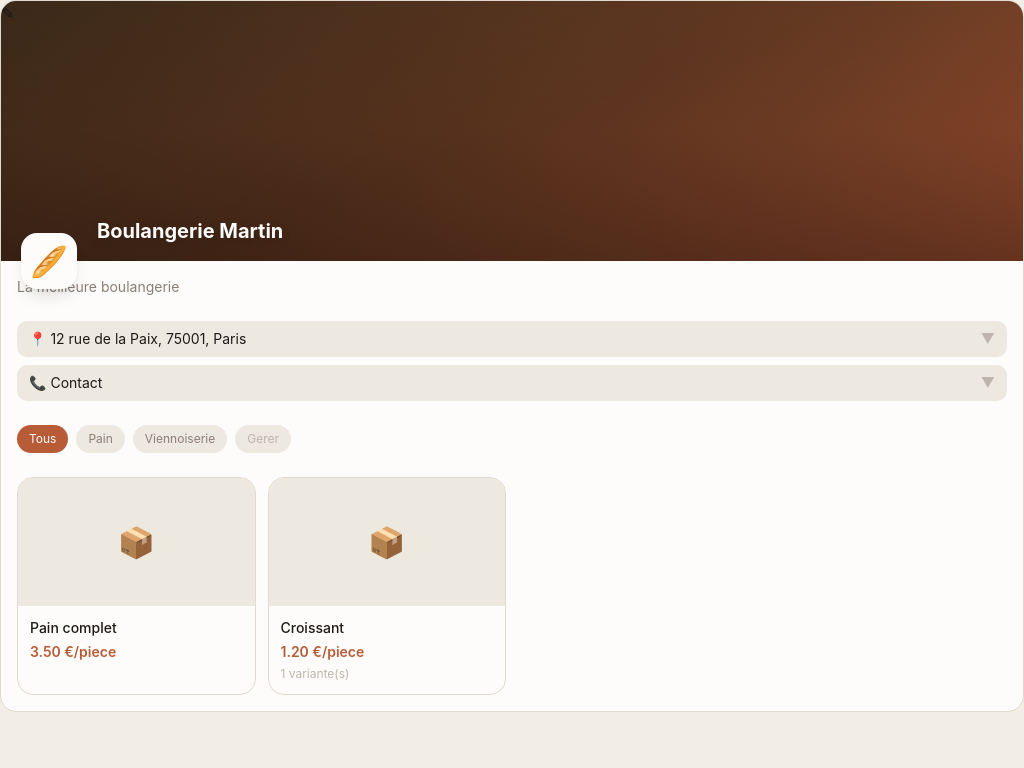
VitrinePreview › shows category manager on Gerer click
Click the button "Gerer" at {"x": 263, "y": 439}, box [235,425,291,453]
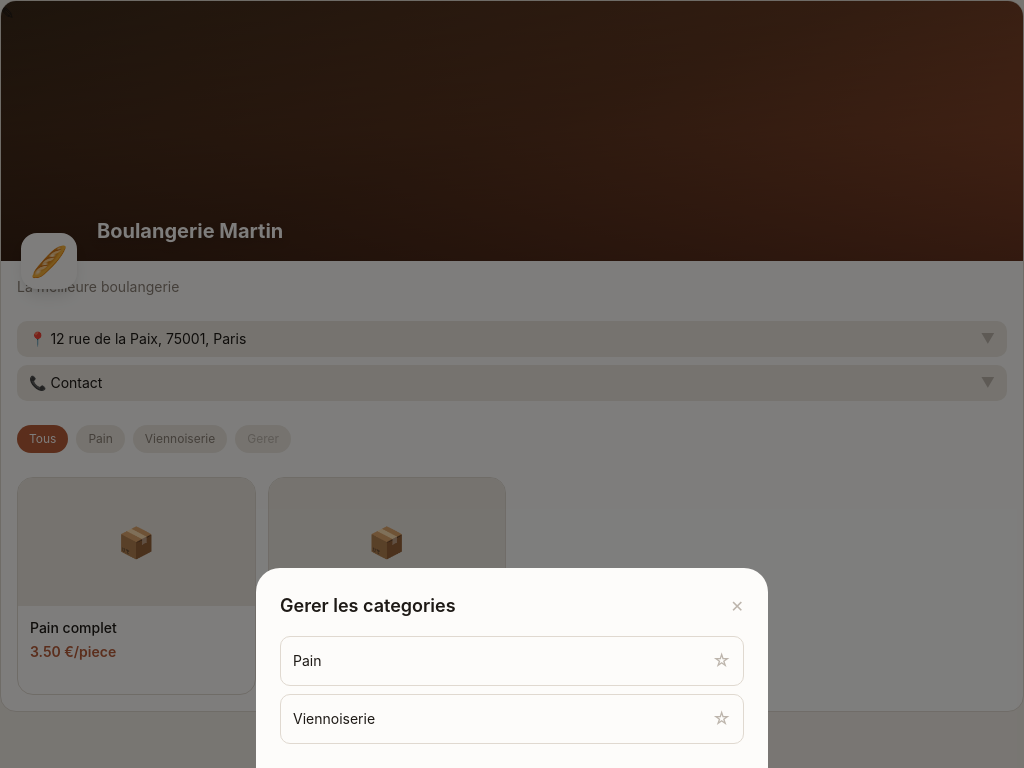
Check: the heading "Gerer les categories" is shown, box [280,592,456,620]
